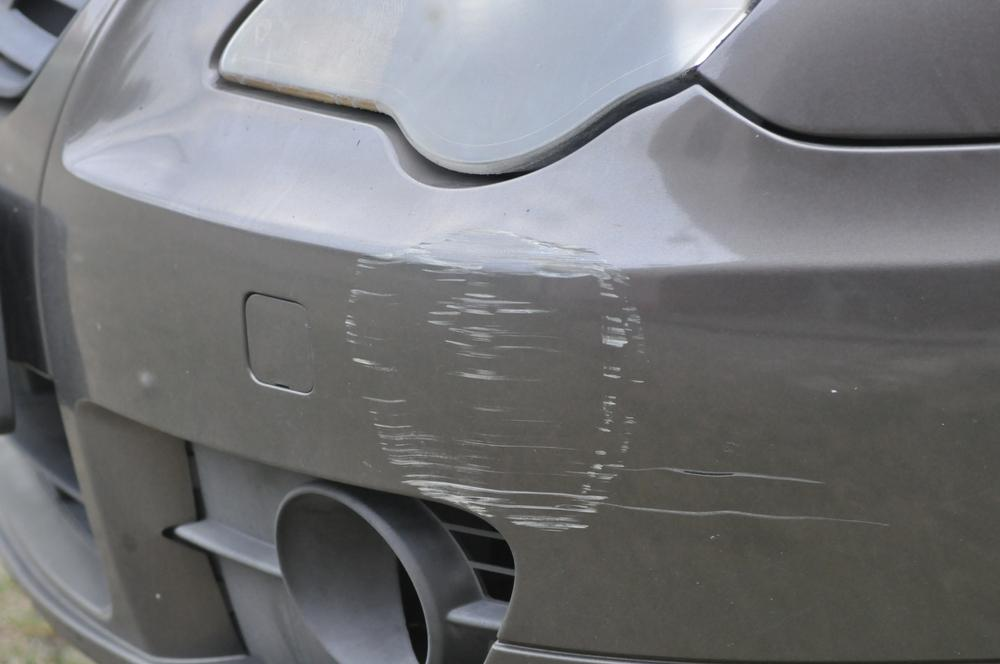scratch: (347, 215, 917, 539)
